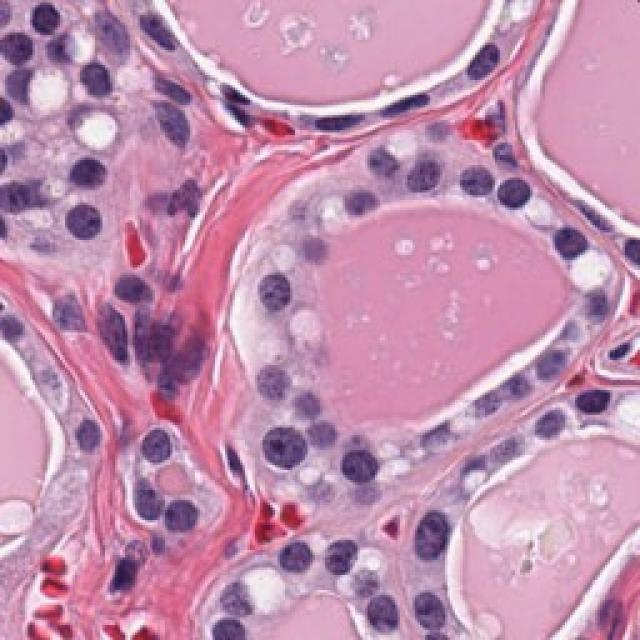normal: (231, 408, 326, 497), (426, 145, 507, 224), (397, 487, 470, 568), (326, 424, 391, 501), (483, 160, 541, 233), (312, 524, 382, 583), (326, 166, 390, 228), (545, 212, 597, 283), (247, 259, 303, 324), (397, 138, 440, 218), (534, 330, 585, 388), (270, 531, 319, 585), (406, 582, 462, 628)
